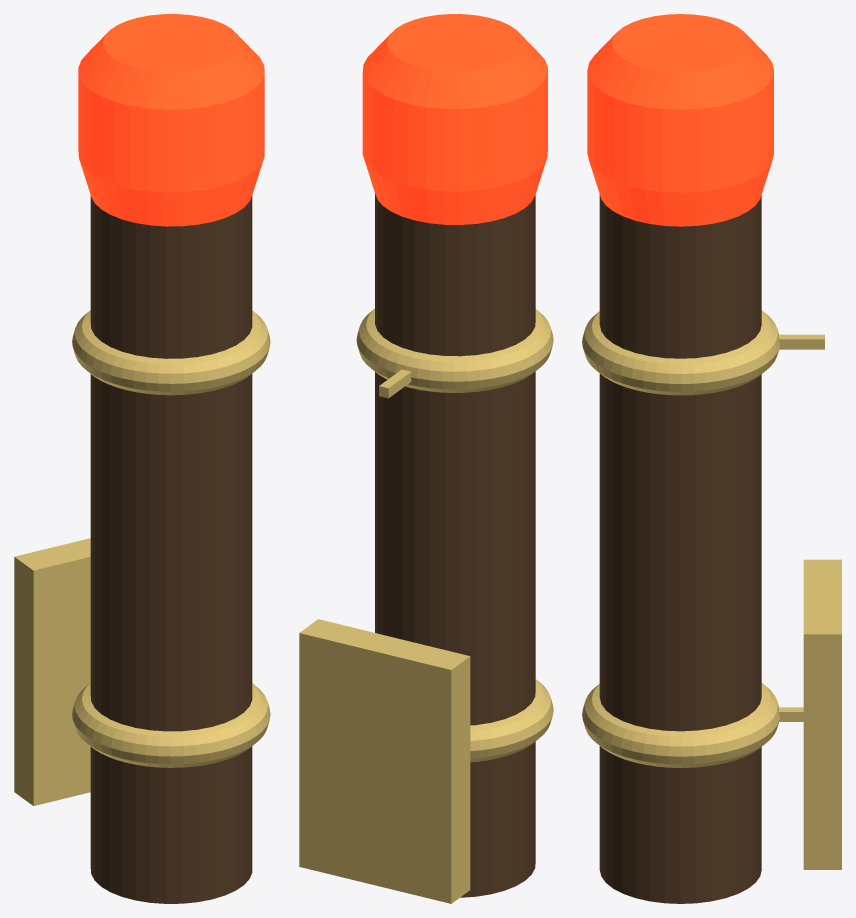
The model's file is WallTorch.fbx.
The picture shows the model from 3 angles, left to right: view 1: azimuth 30°, elevation 25°; view 2: azimuth 150°, elevation 25°; view 3: azimuth 270°, elevation 25°; orthographic projection.
Parts seen in each view (by area): view 1: Torch, Backplate, Ring.001, Ring; view 2: Torch, Backplate, Ring.001, Ring, Support.001; view 3: Torch, Backplate, Ring.001, Ring, Support.001.
Part boxes in pixels (x1,y1,x2,y2): Torch: (78, 14, 264, 903); Backplate: (14, 538, 90, 805); Ring.001: (72, 310, 270, 395); Ring: (72, 683, 270, 767); Torch: (362, 14, 547, 897); Backplate: (299, 619, 470, 903); Ring.001: (356, 309, 553, 392); Ring: (470, 679, 553, 762); Support.001: (379, 369, 411, 398); Torch: (587, 14, 773, 903); Backplate: (803, 559, 841, 869); Ring.001: (582, 310, 779, 395); Ring: (582, 683, 779, 767); Support.001: (778, 334, 824, 349).
Bounding box in the file's own units: 529 × 2428 × 692.
